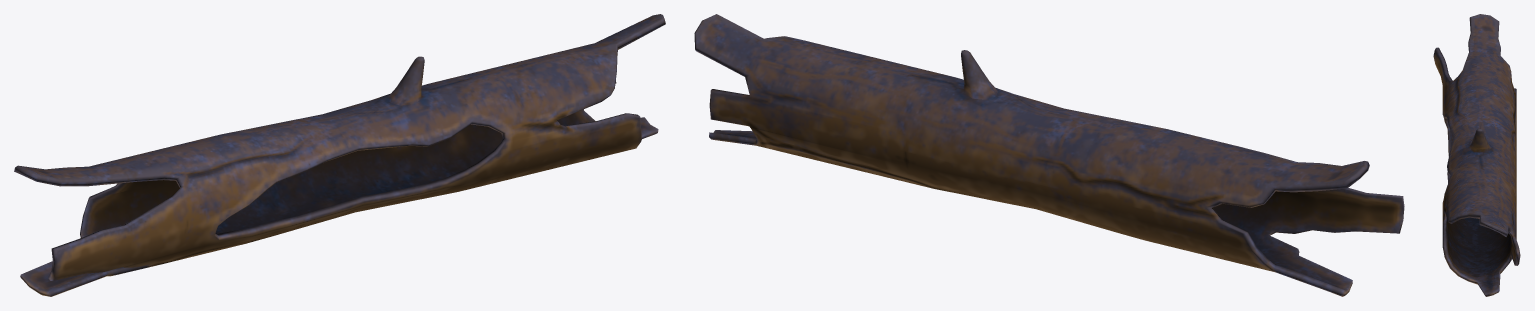
Rendered from MarshLog_a01.fbx.
3 views of the same model, side by side, from view 1: azimuth 30°, elevation 25°; view 2: azimuth 150°, elevation 25°; view 3: azimuth 270°, elevation 25° (orthographic). The views are drawn at different scales.
Parts seen in each view (by area): view 1: Log_a01; view 2: Log_a01; view 3: Log_a01.
Part boxes in pixels (x1,y1,x2,y2): Log_a01: [14, 14, 665, 296]; Log_a01: [694, 14, 1404, 296]; Log_a01: [1433, 14, 1520, 296].
Bounding box in the file's own units: 15.11 × 3.24 × 2.67.
